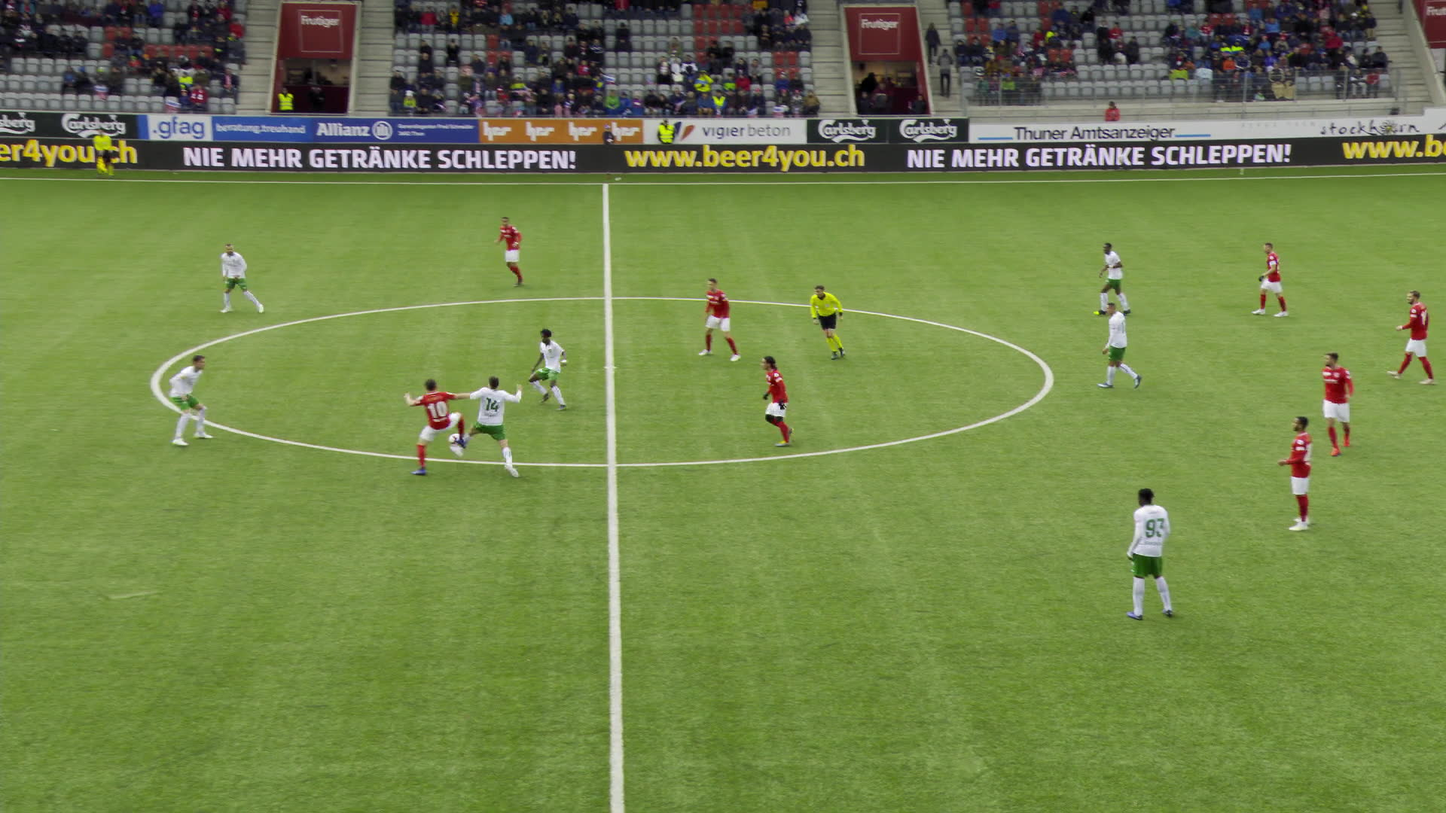player: (404, 377, 471, 477), (463, 375, 527, 479), (1121, 486, 1171, 619), (1386, 289, 1436, 385), (1092, 300, 1141, 389), (1274, 414, 1311, 531), (1310, 346, 1350, 451), (165, 353, 210, 446), (691, 275, 736, 360), (755, 355, 797, 446), (528, 327, 569, 412), (1093, 240, 1133, 316), (215, 242, 257, 313), (490, 215, 523, 288), (1252, 239, 1283, 316)
referee: (807, 284, 850, 361), (84, 127, 108, 178)
